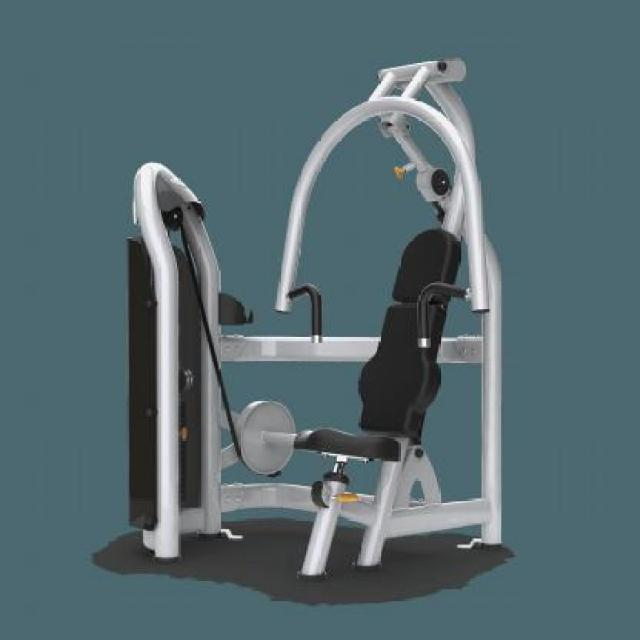Chest Press machine: (106, 51, 534, 597)
